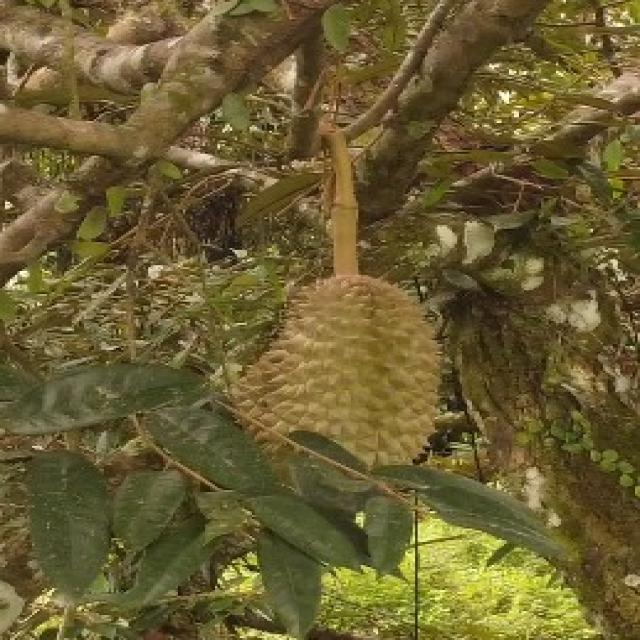mature: (230, 271, 440, 505)
